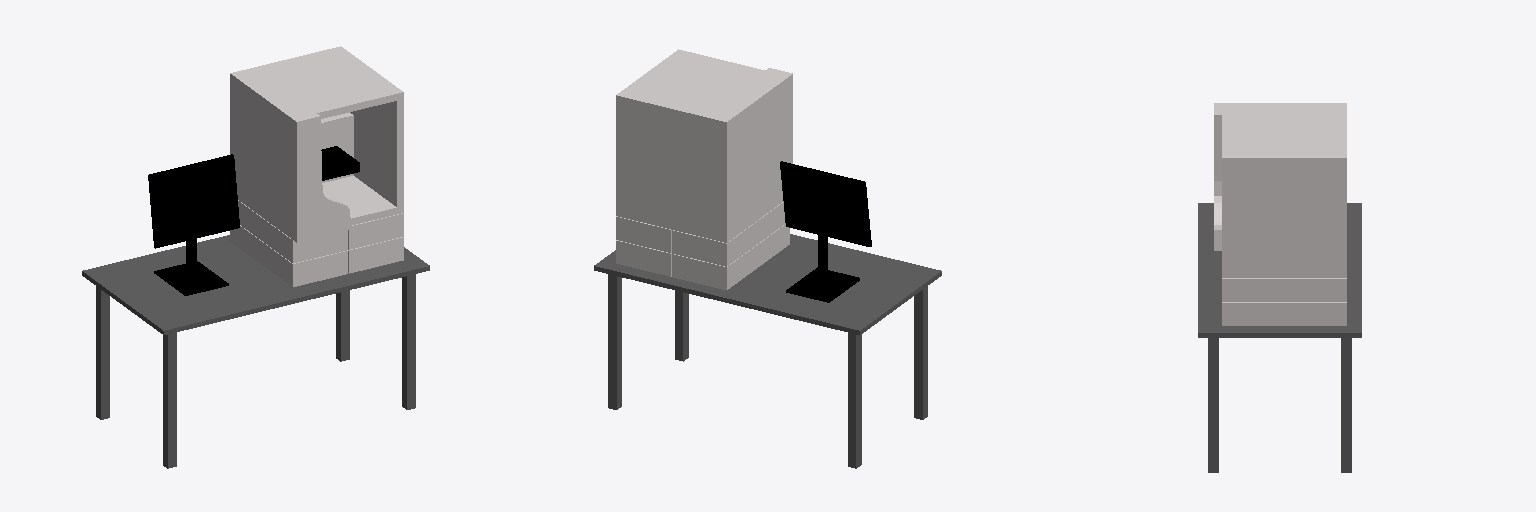
Rendered from static.obj.
The picture shows the model from 3 angles: view 1: azimuth 30°, elevation 25°; view 2: azimuth 150°, elevation 25°; view 3: azimuth 270°, elevation 25°; orthographic projection.
Parts seen in each view (by area): view 1: object_2, object_8, object_9, object_1, object_6, object_3, object_7, object_4, object_5; view 2: object_2, object_8, object_9, object_6, object_3, object_7, object_4; view 3: object_2, object_8, object_4, object_7, object_1.
Boxes of the visible parts, box(x1,y1,x2,y2) form: object_2: box(230, 46, 403, 239); object_8: box(82, 235, 429, 468); object_9: box(148, 154, 239, 295); object_1: box(293, 113, 351, 242); object_6: box(230, 225, 347, 286); object_3: box(238, 200, 347, 263); object_7: box(348, 237, 403, 273); object_4: box(348, 213, 403, 249); object_5: box(321, 146, 359, 180); object_2: box(616, 49, 789, 242); object_8: box(594, 234, 941, 468); object_9: box(780, 161, 871, 302); object_6: box(672, 224, 789, 290); object_3: box(672, 202, 785, 266); object_7: box(616, 240, 671, 276); object_4: box(616, 216, 671, 252); object_2: box(1222, 103, 1346, 277); object_8: box(1198, 203, 1361, 472); object_4: box(1222, 278, 1346, 301); object_7: box(1222, 302, 1346, 325); object_1: box(1214, 103, 1221, 250).
Size of the model in its own units: 60 by 67.34 by 32.